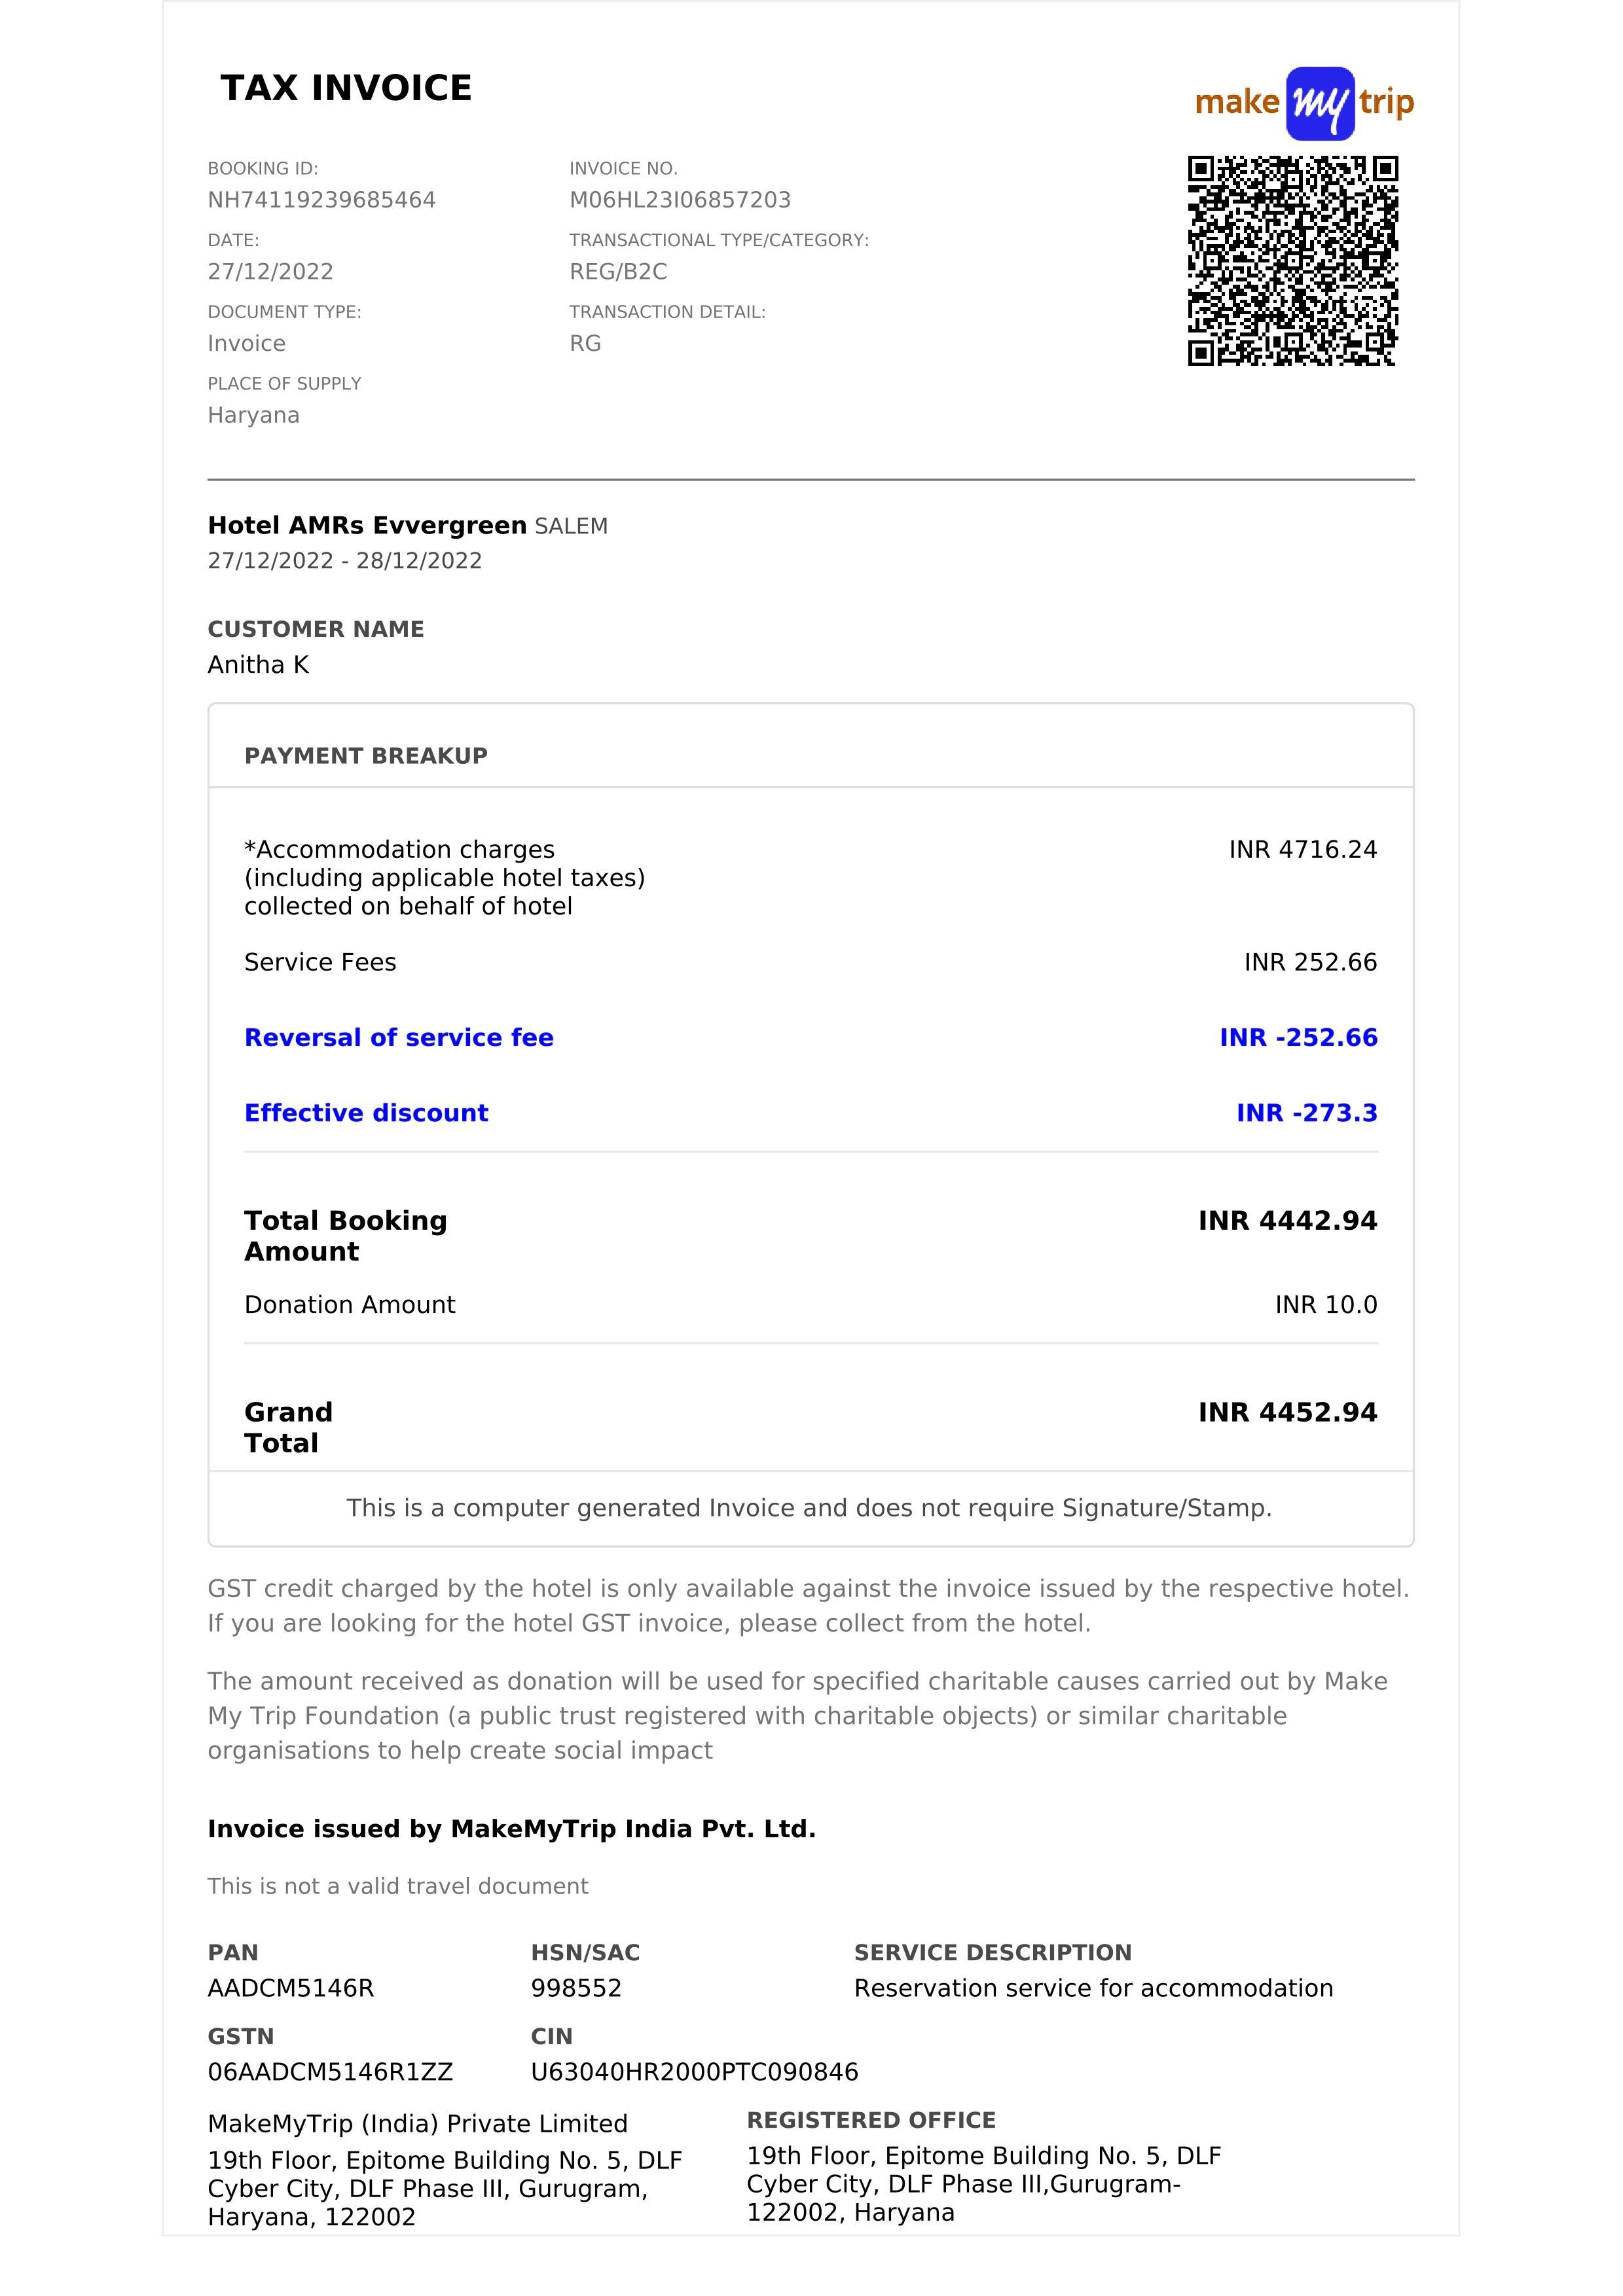InvoiceDate: (195, 248, 353, 295)
InvoiceNumber: (564, 181, 803, 223)
TotalAmount: (1179, 1385, 1391, 1441)
